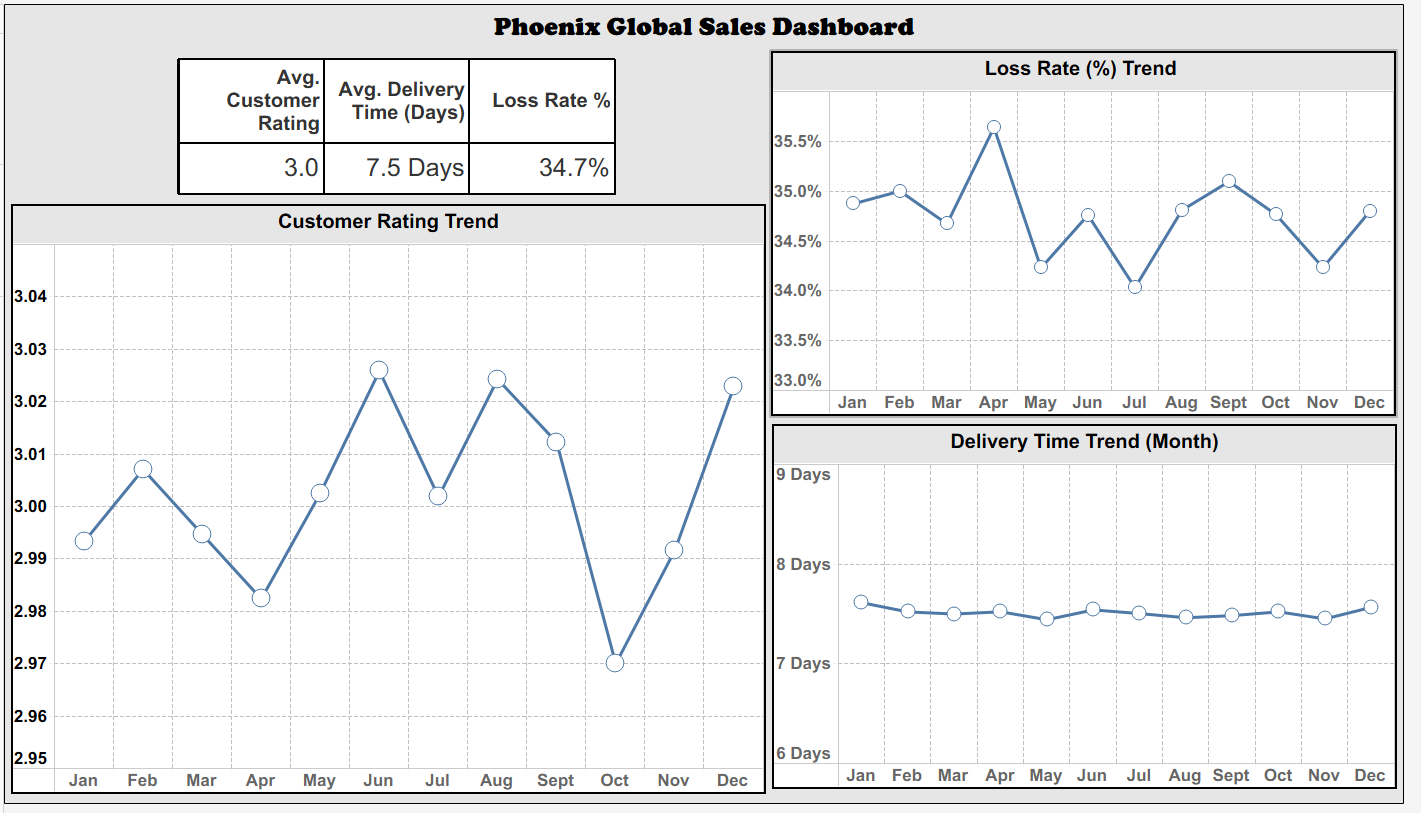

This screenshot's page, from the dashboard's own definition file:
{"tool":"tableau","page":{"name":"Operations & Customer Experience","canvas":[1400,800],"ordinal":2},"visuals":[{"type":"text","box":[0,0,1400,45]},{"type":"worksheet","title":"Loss Rate Trend","mark":"Line","rows":["Calculation_0742753090473988","Calculation_0742753090473988"],"cols":["Date"],"box":[767,47,625,365]},{"type":"worksheet","title":"3 KPI","mark":"Automatic","box":[173,54,439,137]},{"type":"worksheet","title":"Customer Rating Trend","mark":"Line","rows":["Customer_Rating","Customer_Rating"],"cols":["Date"],"box":[7,200,755,590]},{"type":"worksheet","title":"Delivery Time Trend (Month)","mark":"Line","rows":["Delivery_Days","Delivery_Days"],"cols":["Date"],"box":[768,420,625,365]}]}

Visuals, with their boxes in screenshot pixels (x1, y1, x2, y2), scaled from the page's 1400x800 canvas onto the 1421x813 screenshot:
text: (left=0, top=0, right=1420, bottom=46)
"Loss Rate Trend" worksheet (Line marks): (left=779, top=48, right=1413, bottom=419)
"3 KPI" worksheet: (left=176, top=55, right=621, bottom=194)
"Customer Rating Trend" worksheet (Line marks): (left=7, top=203, right=773, bottom=803)
"Delivery Time Trend (Month)" worksheet (Line marks): (left=780, top=427, right=1414, bottom=798)
